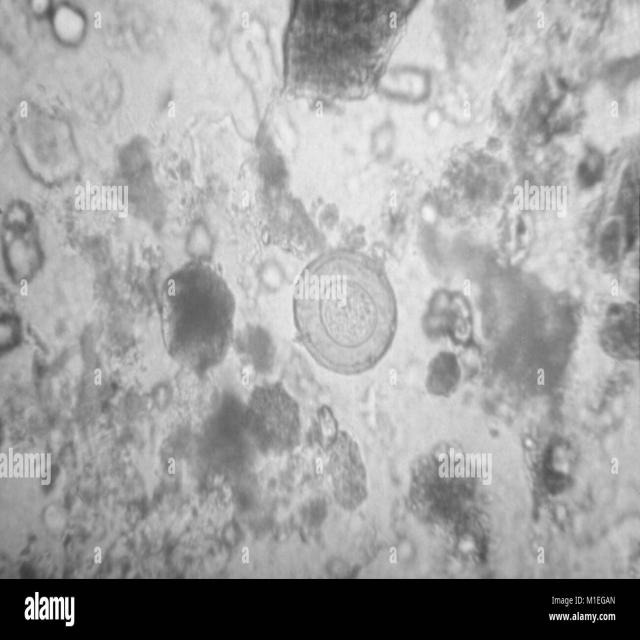Hymenolepis: (288, 240, 407, 388)
